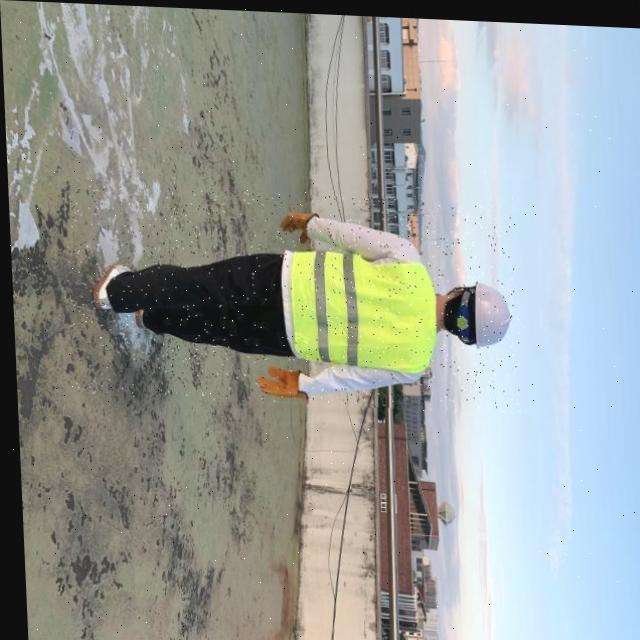Gloves: (252, 363, 300, 396)
Helmet: (440, 276, 512, 345)
Safety-Boot: (88, 261, 134, 313)
Safety-Vest: (279, 244, 438, 371)
